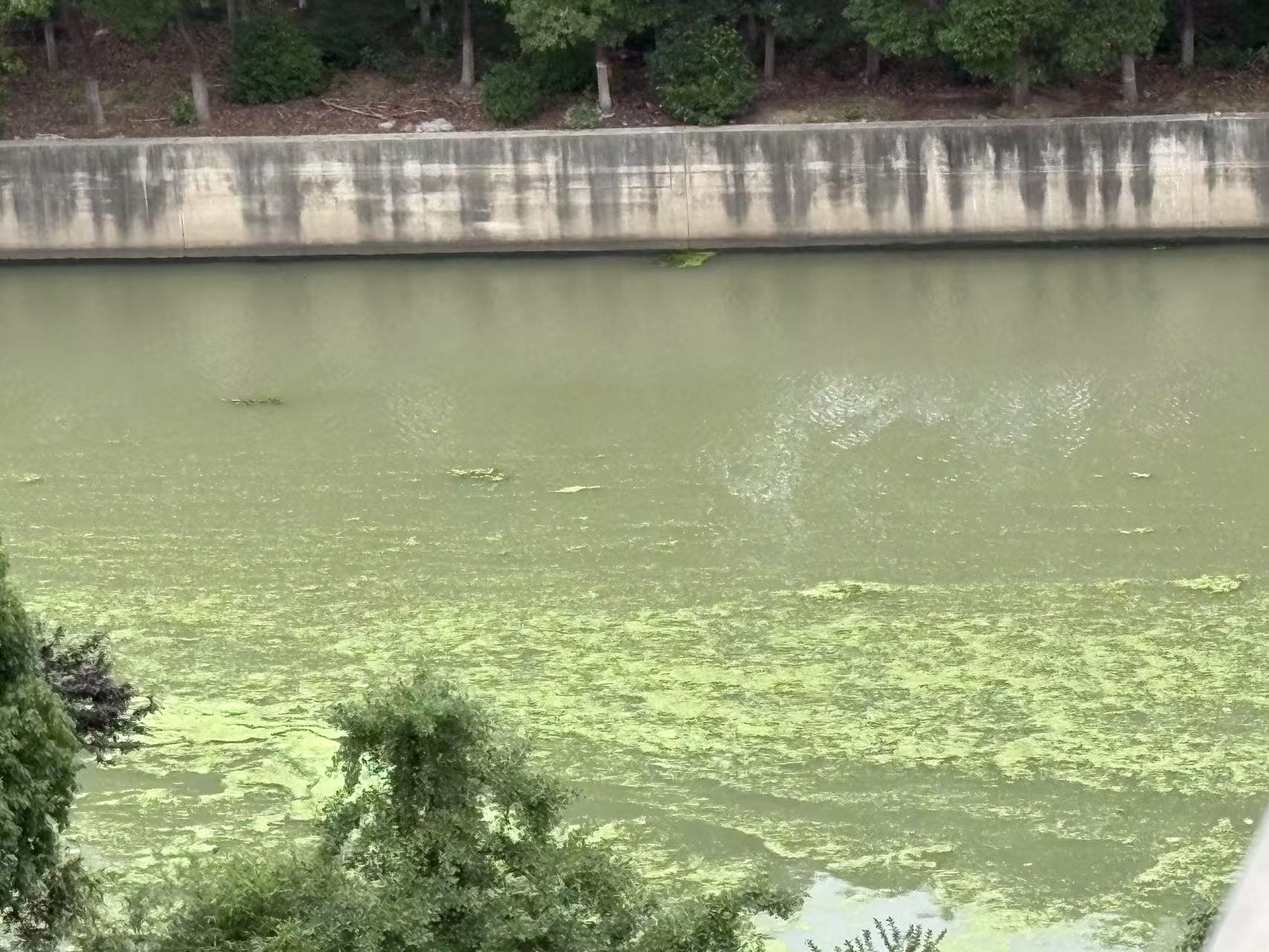Other: (498, 605, 1265, 786), (157, 701, 334, 795), (448, 459, 509, 489), (1169, 573, 1252, 591), (213, 393, 287, 411), (813, 580, 882, 596), (668, 253, 711, 274)
